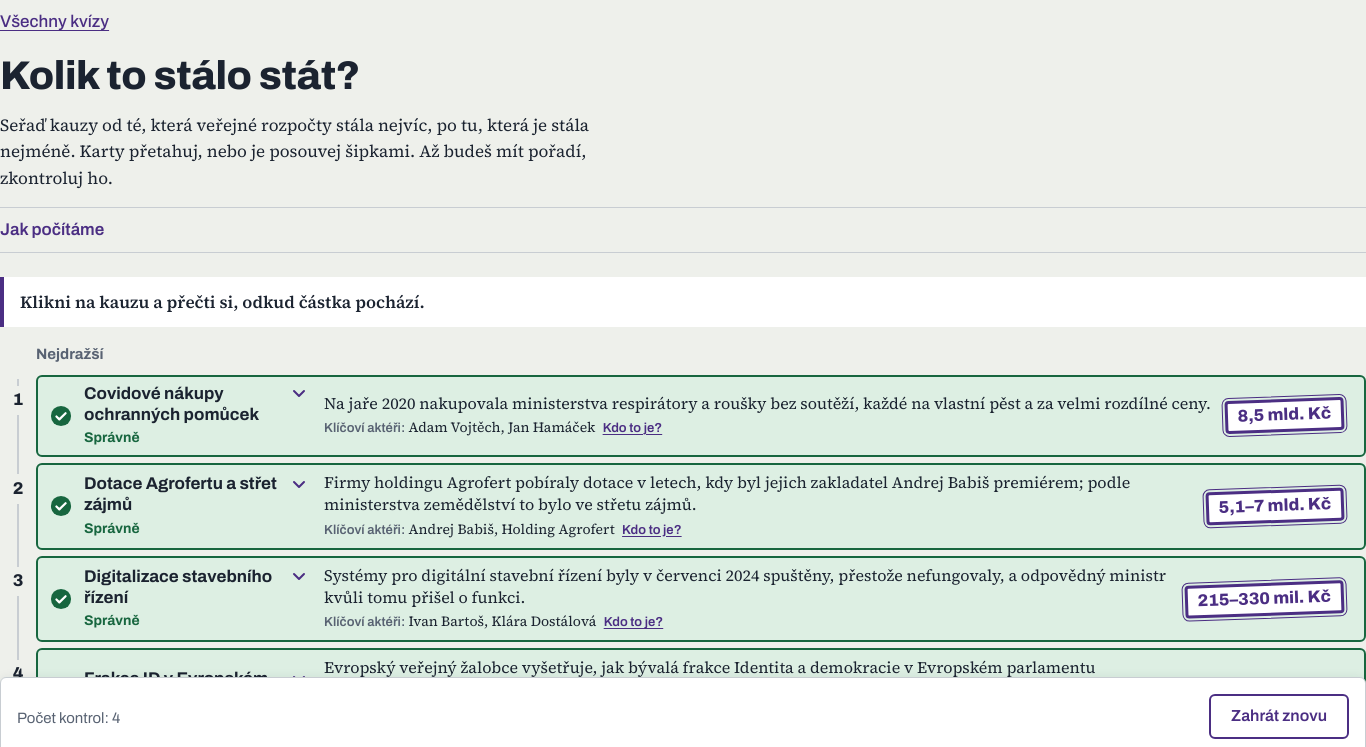
Scenario: OrderingQuiz › „Zahrát znovu“ po potvrzení smaže postup a znovu zamíchá
Click the button "Zahrát znovu". click: coordinates (1279, 717)
box: [1209,694,1349,739]
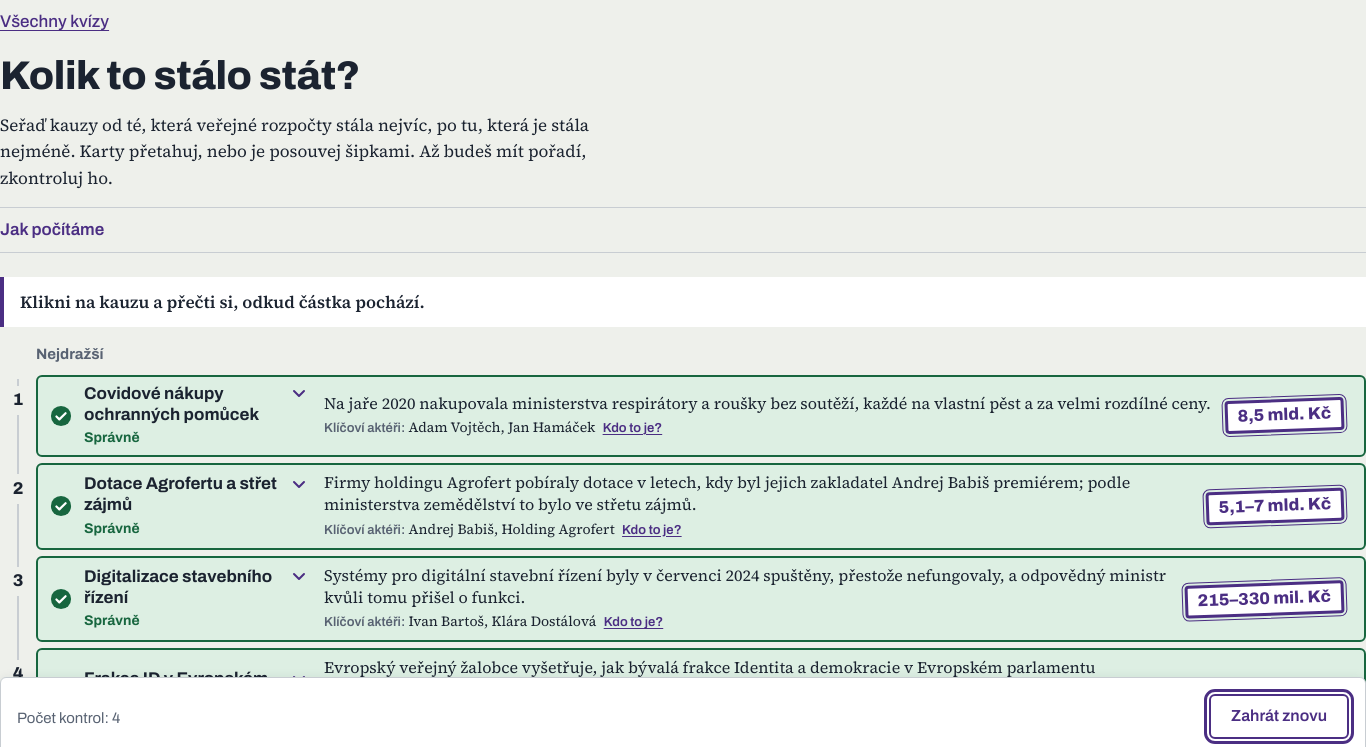
Click the button "Zahrát znovu". click: coordinates (1279, 717)
box: [1209,694,1349,739]
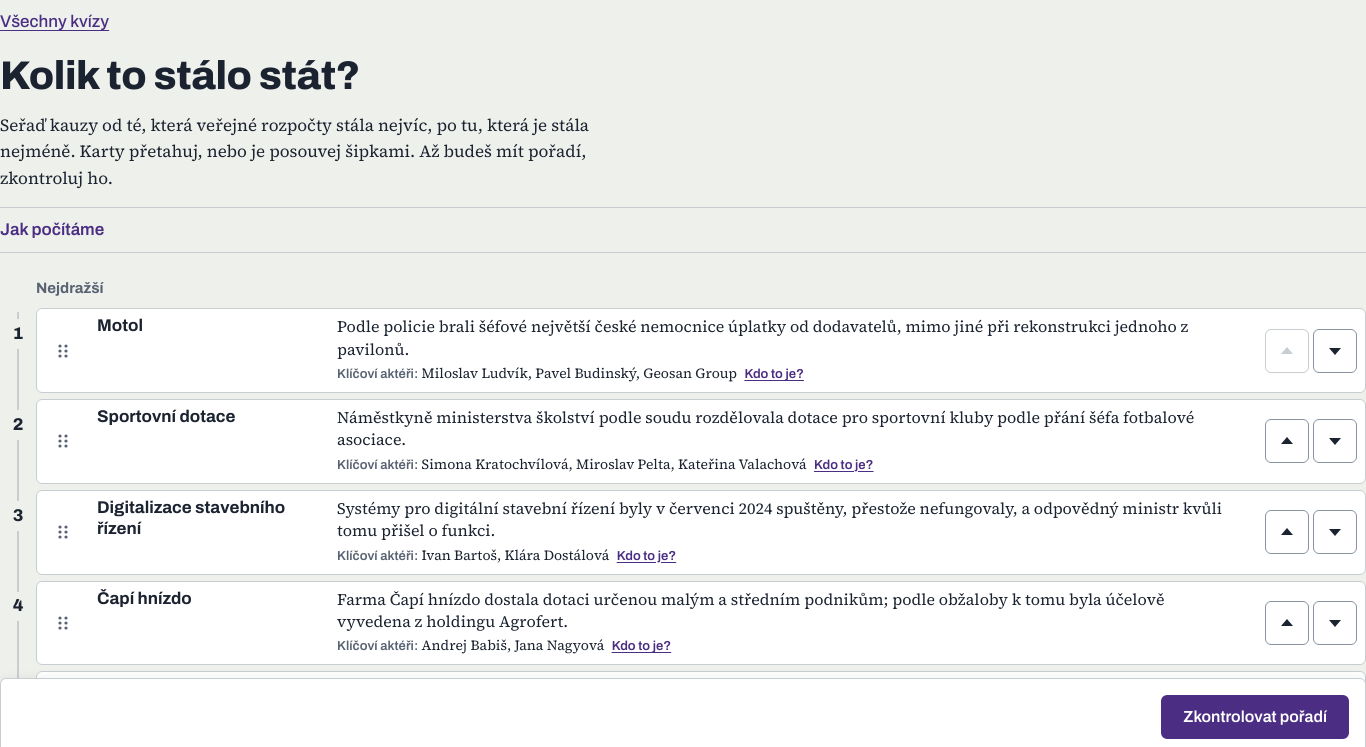
Expected: the button "Zkontrolovat pořadí" is shown, [1161,694,1349,739]
